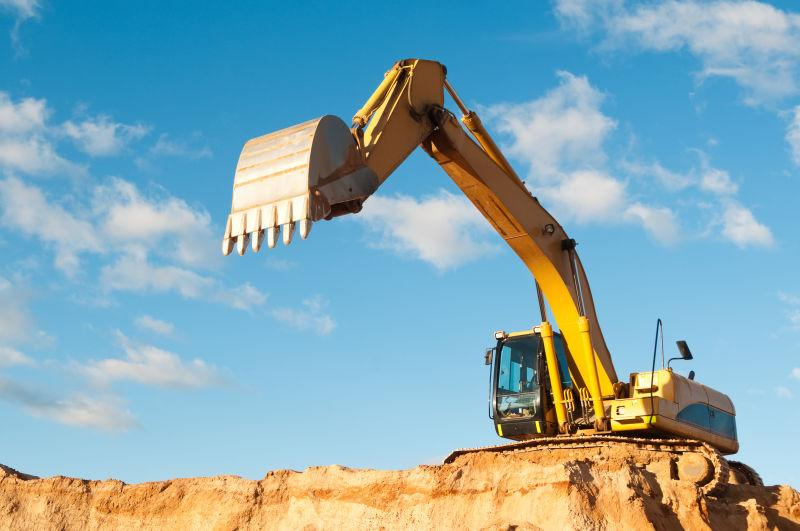excavator: (216, 58, 775, 492)
